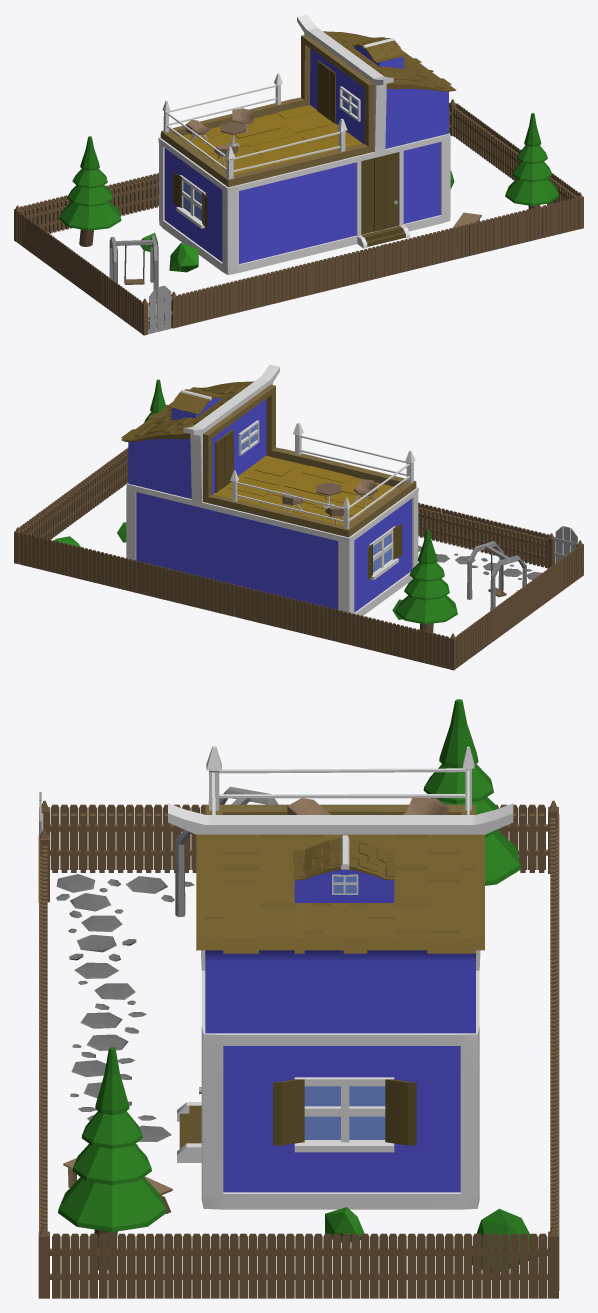
Rendered from 3lvl_blue.fbx.
3 renders of one model, top to bottom at view 1: azimuth 30°, elevation 25°; view 2: azimuth 150°, elevation 25°; view 3: azimuth 270°, elevation 25°, orthographic. The views are drawn at different scales.
Visible parts, largest first — view 1: blue_3lvl; view 2: blue_3lvl; view 3: blue_3lvl.
Part boxes in pixels (<box>): blue_3lvl: <box>14,14,583,335</box>; blue_3lvl: <box>14,364,583,670</box>; blue_3lvl: <box>38,699,559,1298</box>.
Size of the model in its own units: 187 by 67.37 by 95.74.
